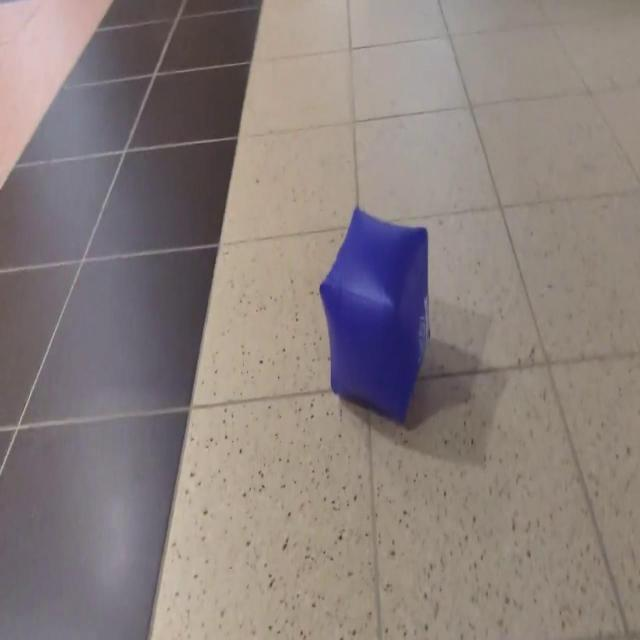frc_cube: (319, 210, 431, 423)
